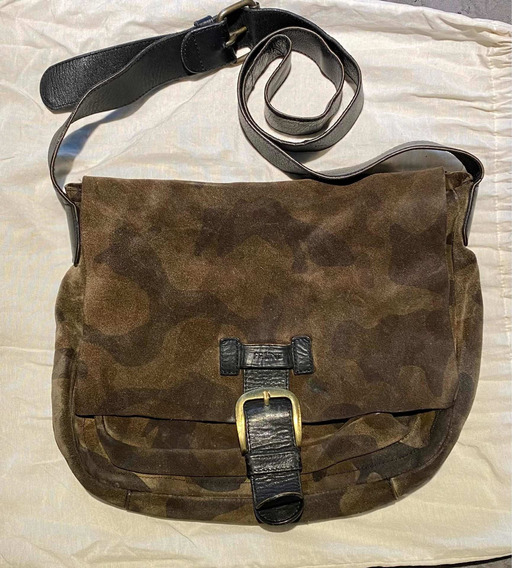cartera: (40, 1, 483, 525)
